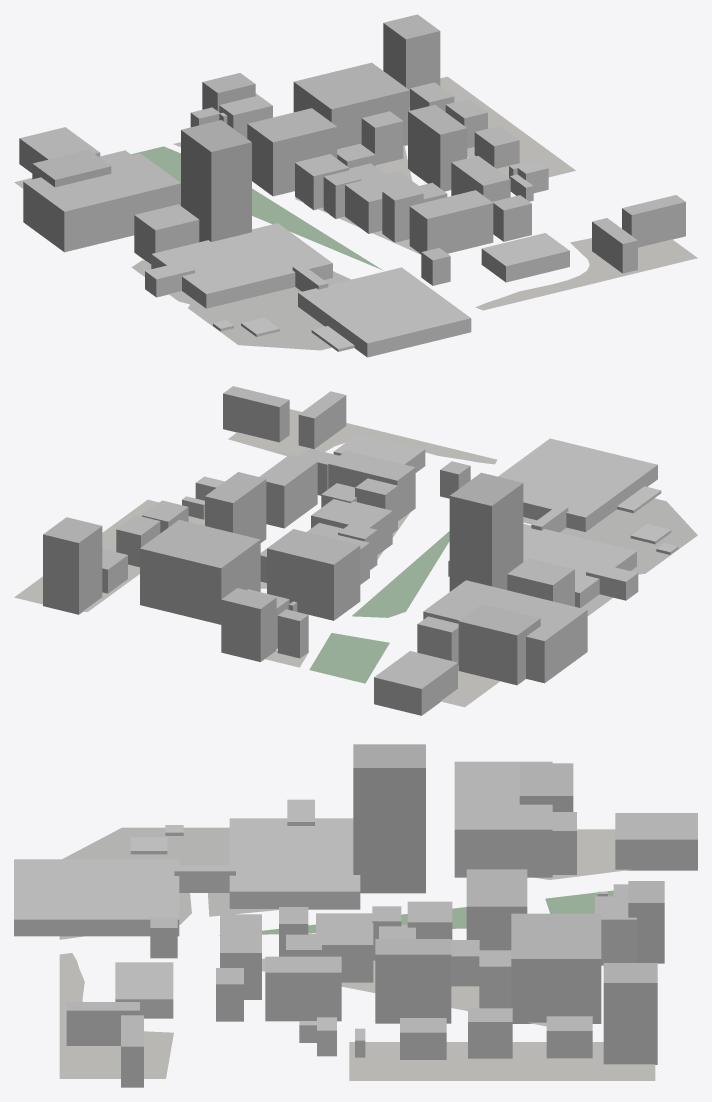
File: 129_98_mid.glb
3 renders of one model, top to bottom at view 1: azimuth 30°, elevation 25°; view 2: azimuth 150°, elevation 25°; view 3: azimuth 270°, elevation 25°, orthographic. The views are drawn at different scales.
Bounding box in the file's own units: 555 × 117 × 574.
